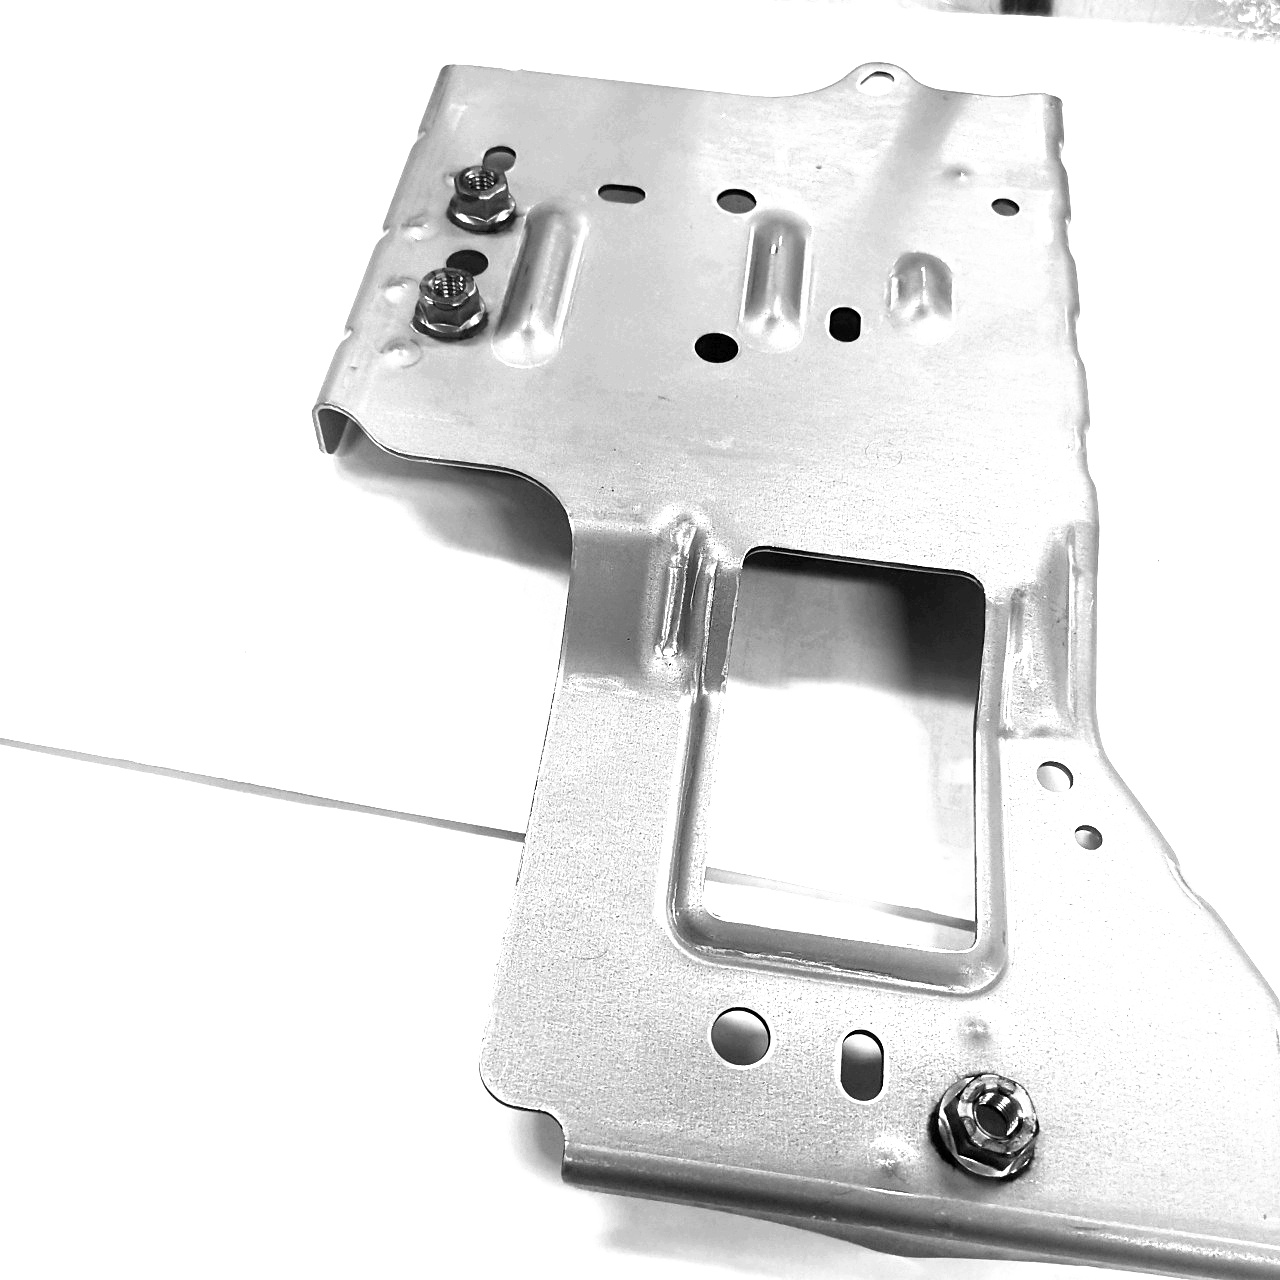dog: (924, 1062, 1046, 1192), (406, 263, 493, 346), (440, 162, 522, 240)
